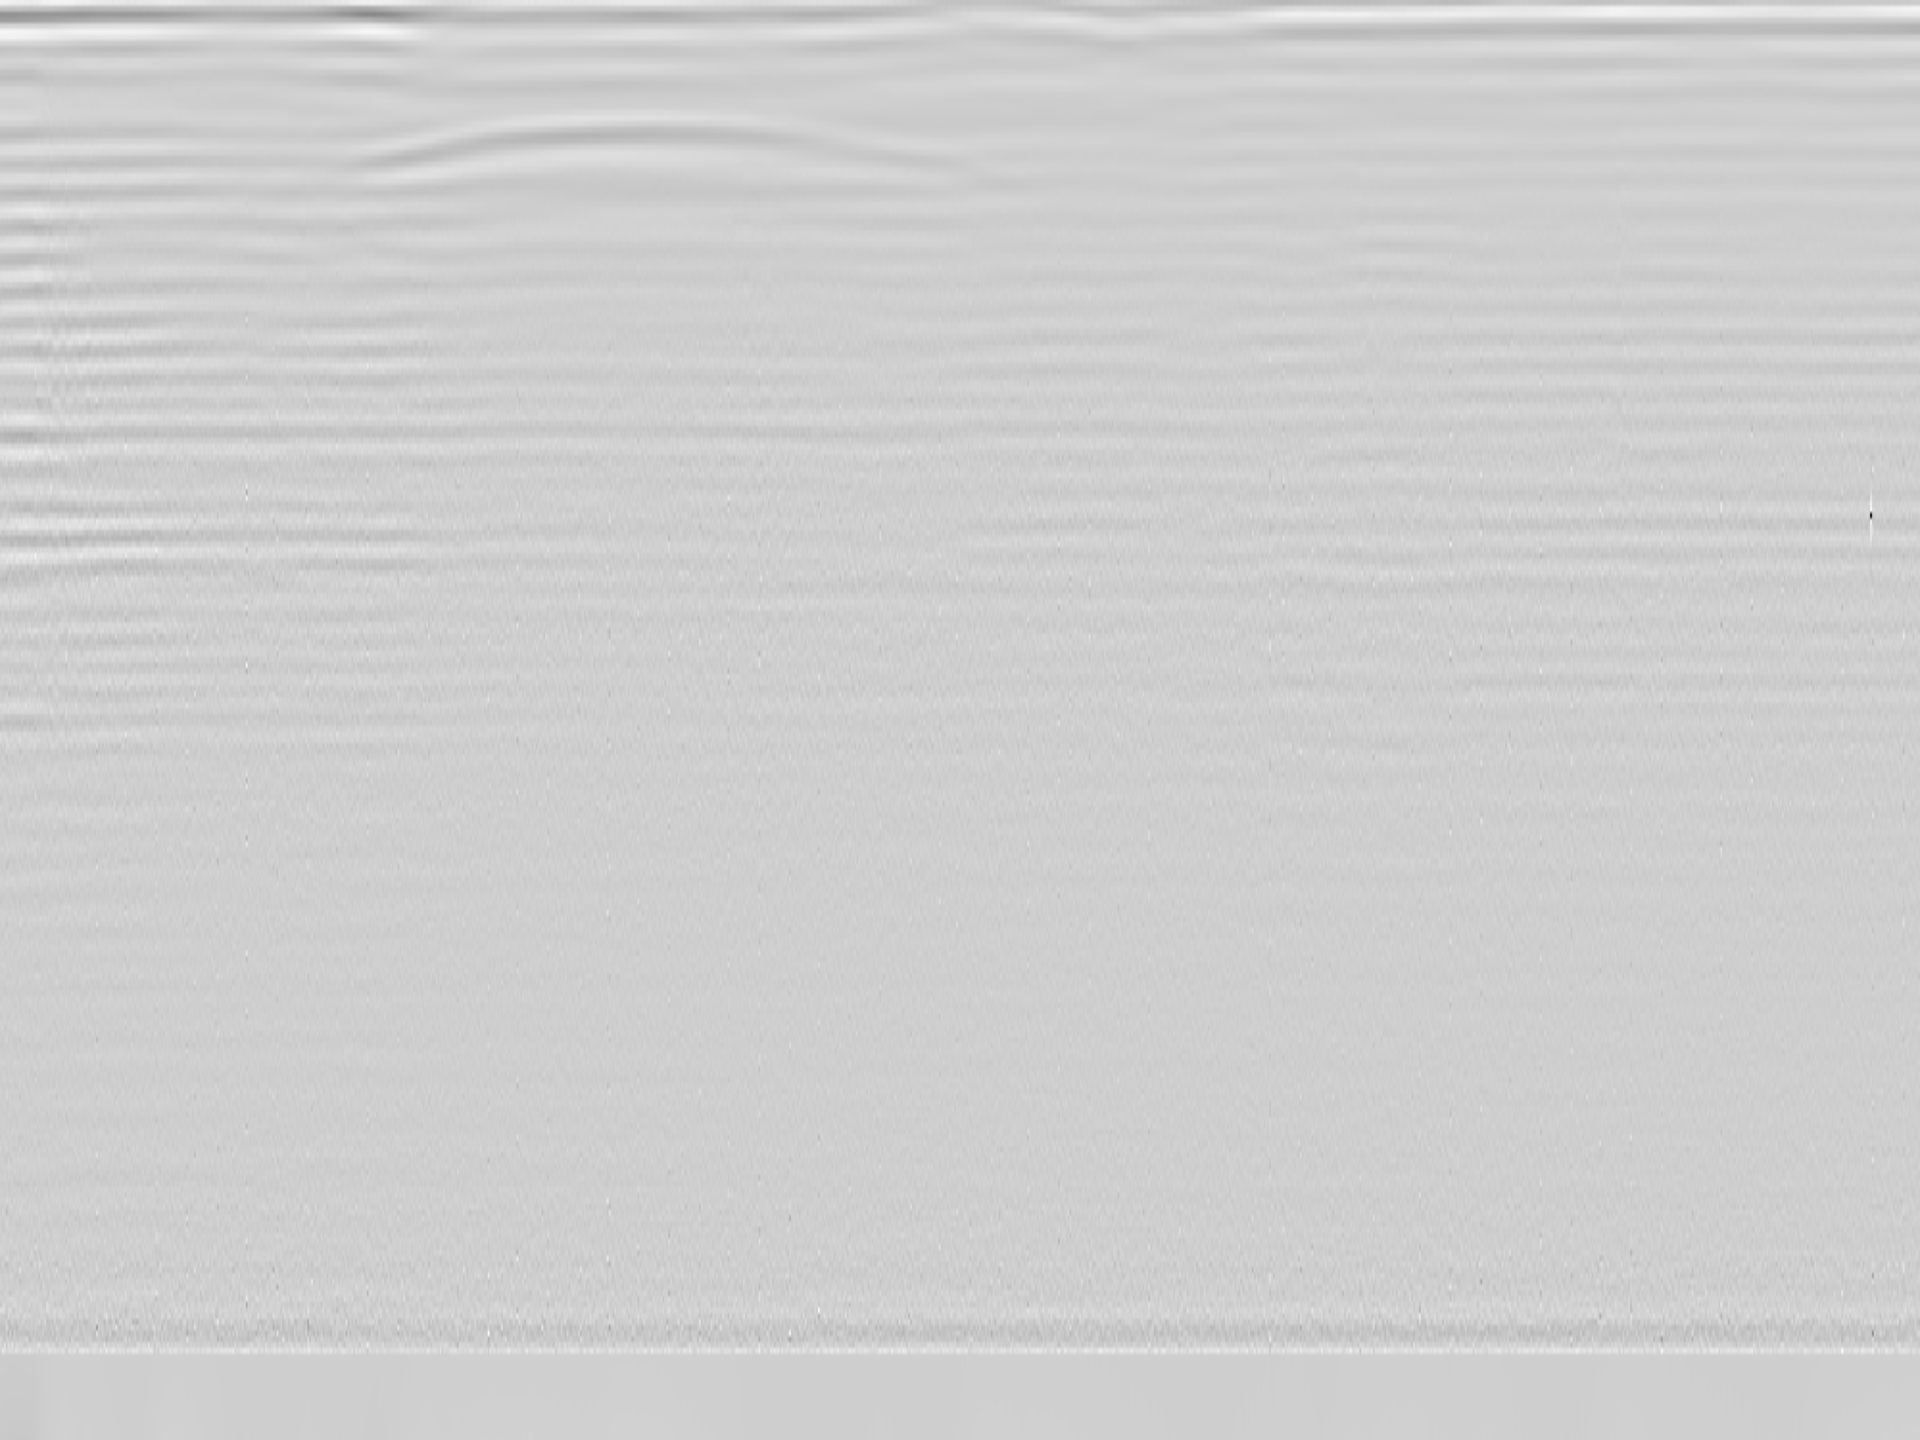Tunnel: (351, 109, 986, 191)
